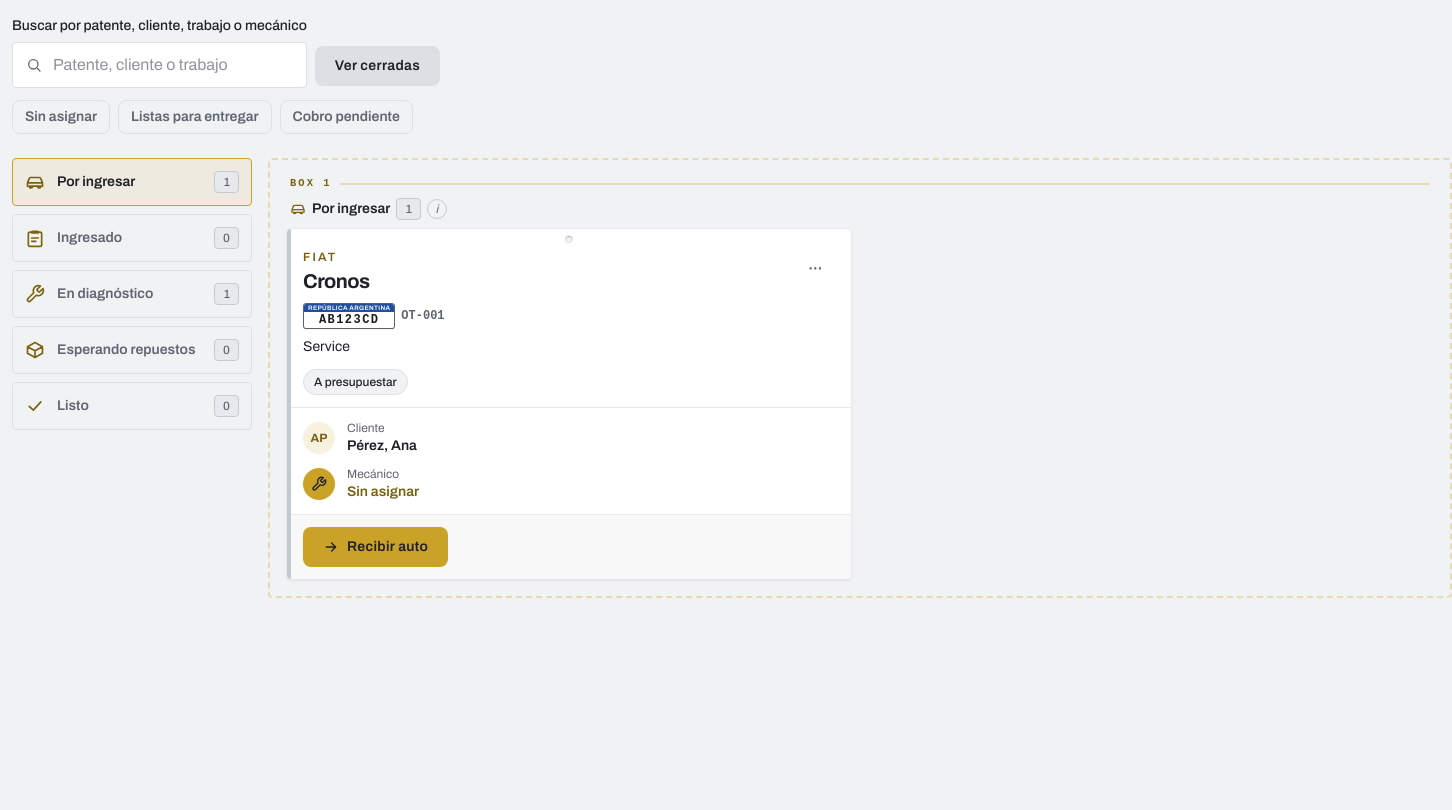
Test case: TableroOrdenes › el chip Sin asignar filtra las tarjetas
Click the button with aria-label "Ver En diagnóstico".
click(132, 294)  # box [12,270,252,318]
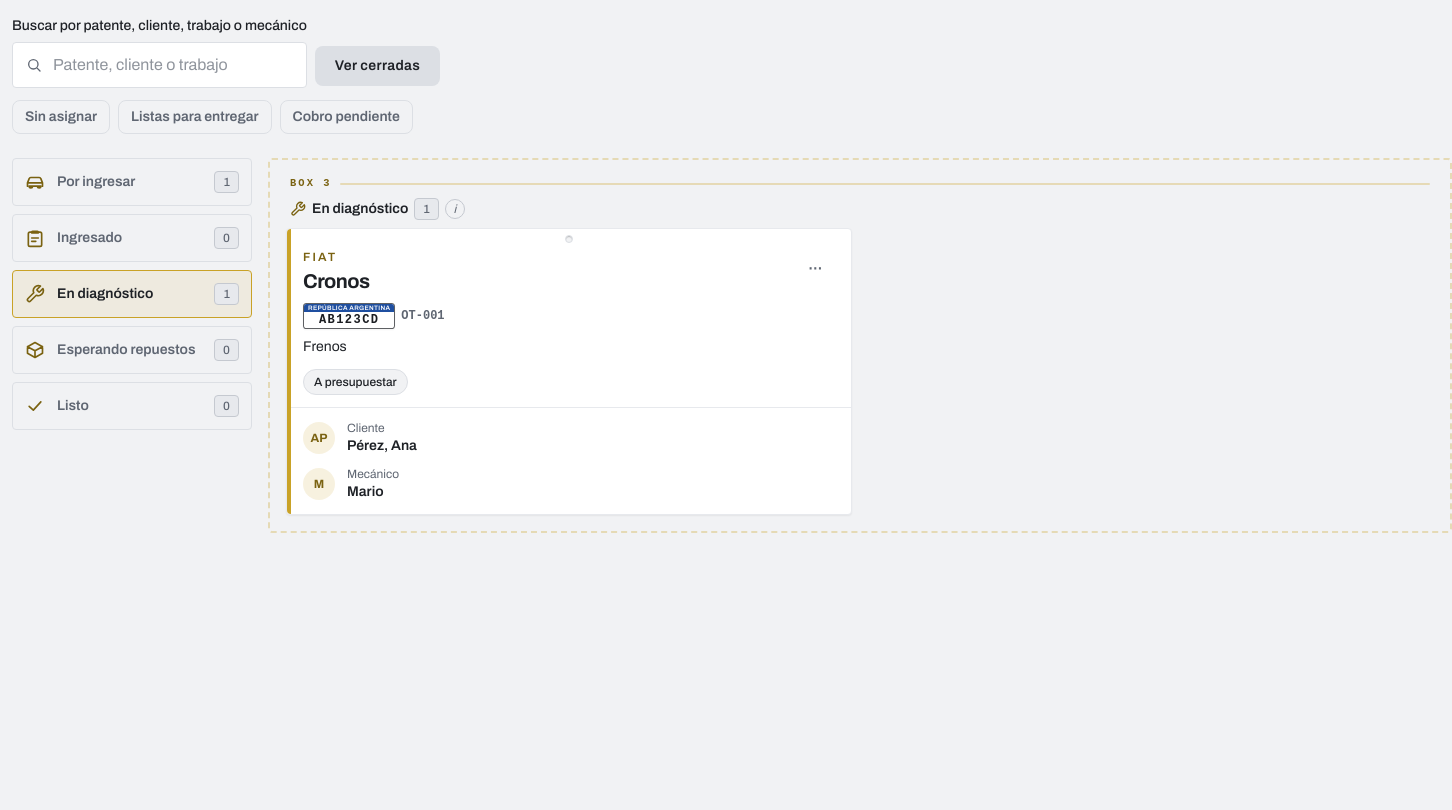
Check: the text "Frenos" is shown, box [303,339,347,354]
Click the button "Sin asignar".
click(61, 117)  # box [12,100,110,134]
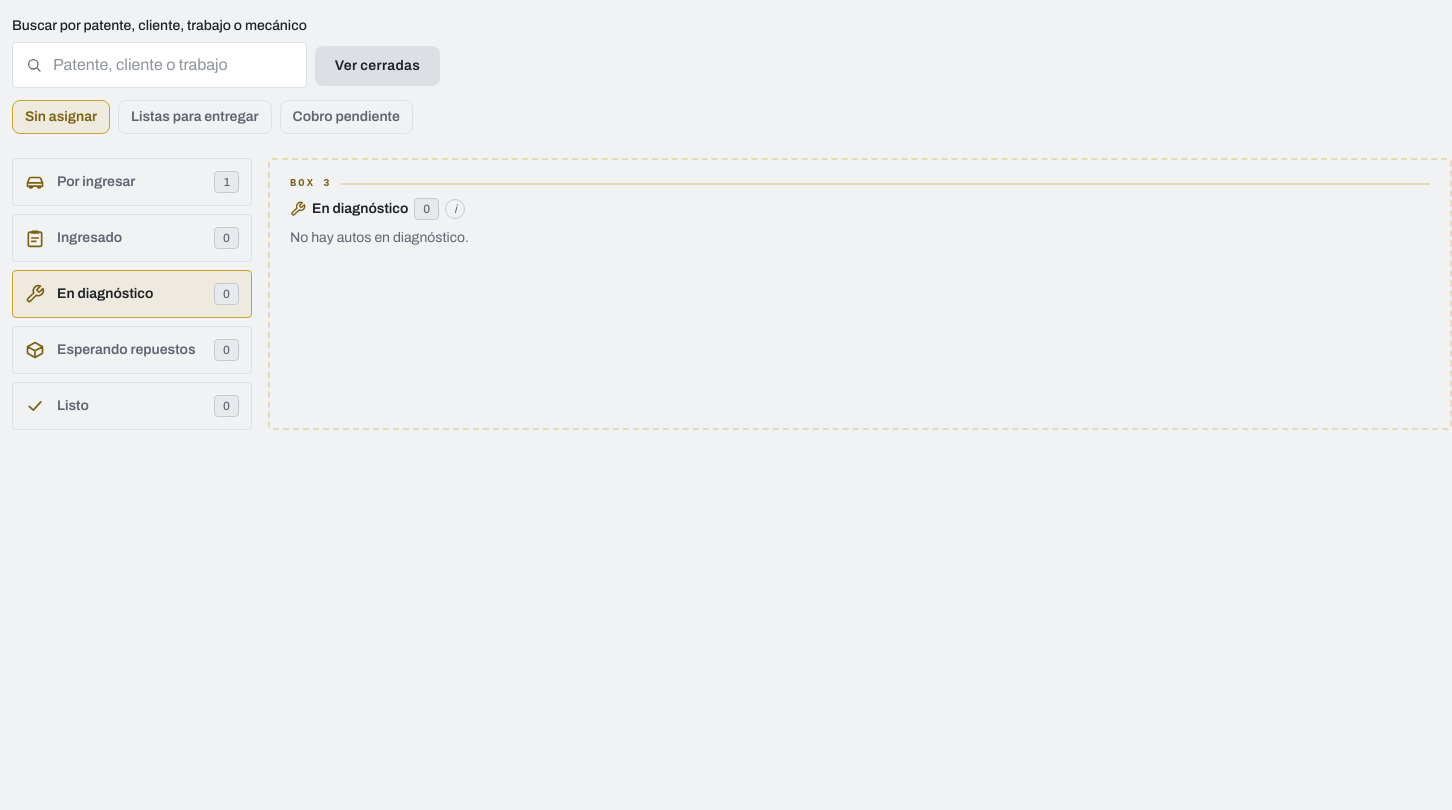
Check: the text "Frenos" is gone
Click the button with aria-label "Ver Por ingresar".
click(132, 182)  # box [12,158,252,206]
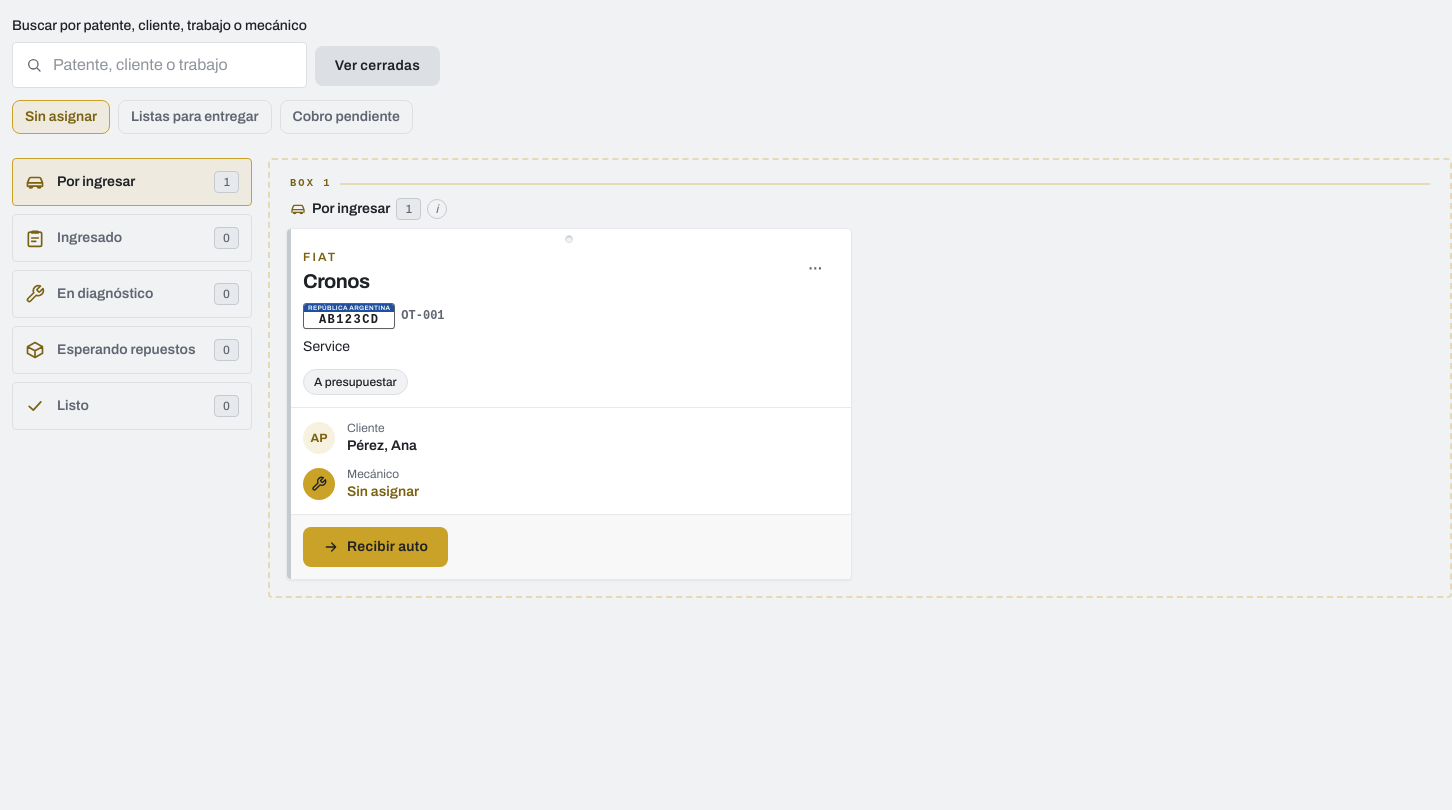
Check: the text "Service" is shown, box [303,339,350,354]
